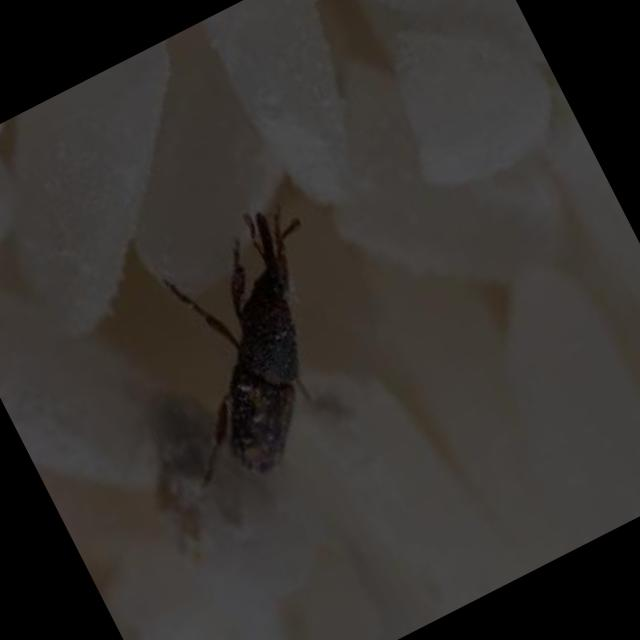rice-bug: (132, 204, 374, 488)
